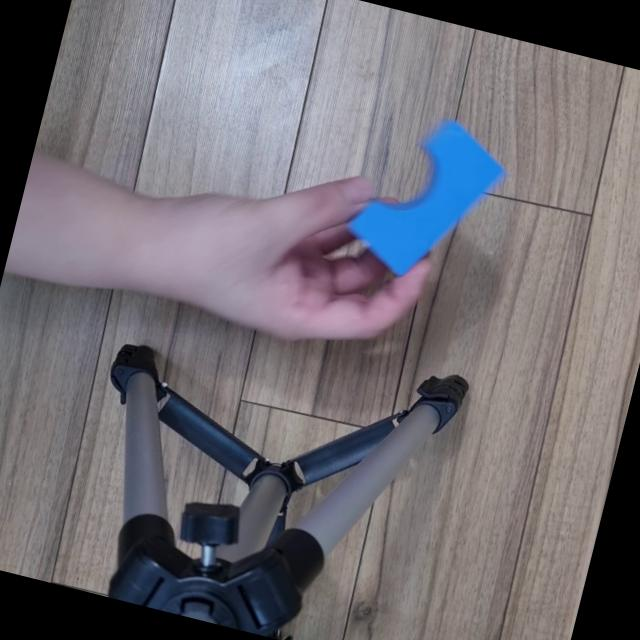block: (330, 94, 518, 299)
hand: (145, 136, 455, 393)
